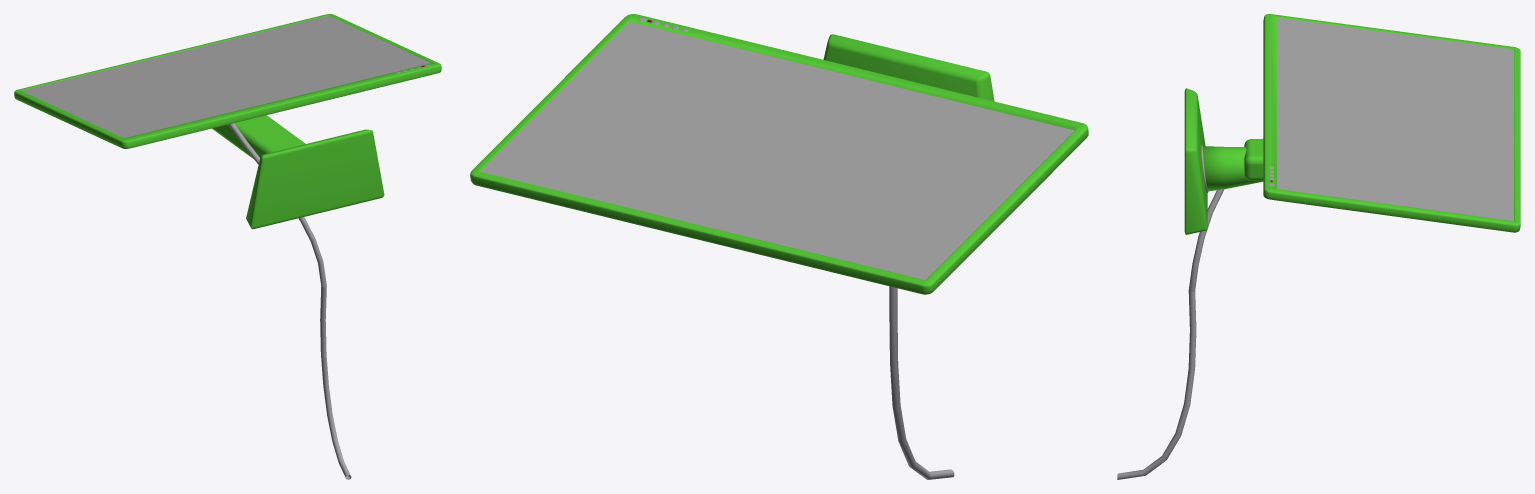
The model's file is monitor.fbx.
3 views of the same model, side by side, from view 1: azimuth 30°, elevation 25°; view 2: azimuth 150°, elevation 25°; view 3: azimuth 270°, elevation 25° (orthographic). The views are drawn at different scales.
Visible parts, largest first — view 1: Plane_001, Cube_002, Cube, BezierCurve, Cube_001; view 2: Plane_001, Cube, Cube_002, BezierCurve; view 3: Plane_001, Cube, Cube_002, BezierCurve, Cylinder, Cube_001.
Boxes of the visible parts, box(x1,y1,x2,y2) form: Plane_001: box(21, 15, 431, 137); Cube_002: box(246, 129, 384, 229); Cube: box(14, 14, 441, 148); BezierCurve: box(229, 123, 351, 479); Cube_001: box(212, 115, 305, 159); Plane_001: box(480, 22, 1074, 280); Cube: box(470, 14, 1088, 294); Cube_002: box(823, 34, 994, 101); BezierCurve: box(889, 286, 954, 479); Plane_001: box(1277, 17, 1513, 221); Cube: box(1263, 14, 1520, 232); Cube_002: box(1184, 88, 1207, 234); BezierCurve: box(1117, 138, 1263, 479); Cylinder: box(1202, 146, 1263, 191); Cube_001: box(1244, 139, 1263, 180).
Bounding box in the file's own units: 3.2 × 3.16 × 3.06.
